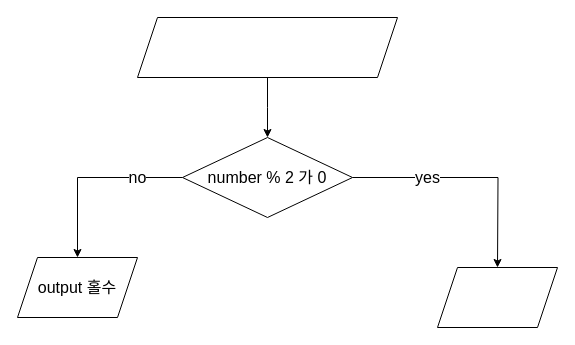
The diagram is 575 pixels wide and 345 high, and some of its shapes have lost their labels. The centre of each missing label's shape, as x and y in pixels:
input number: (267,47)
output 짝수: (497,297)
